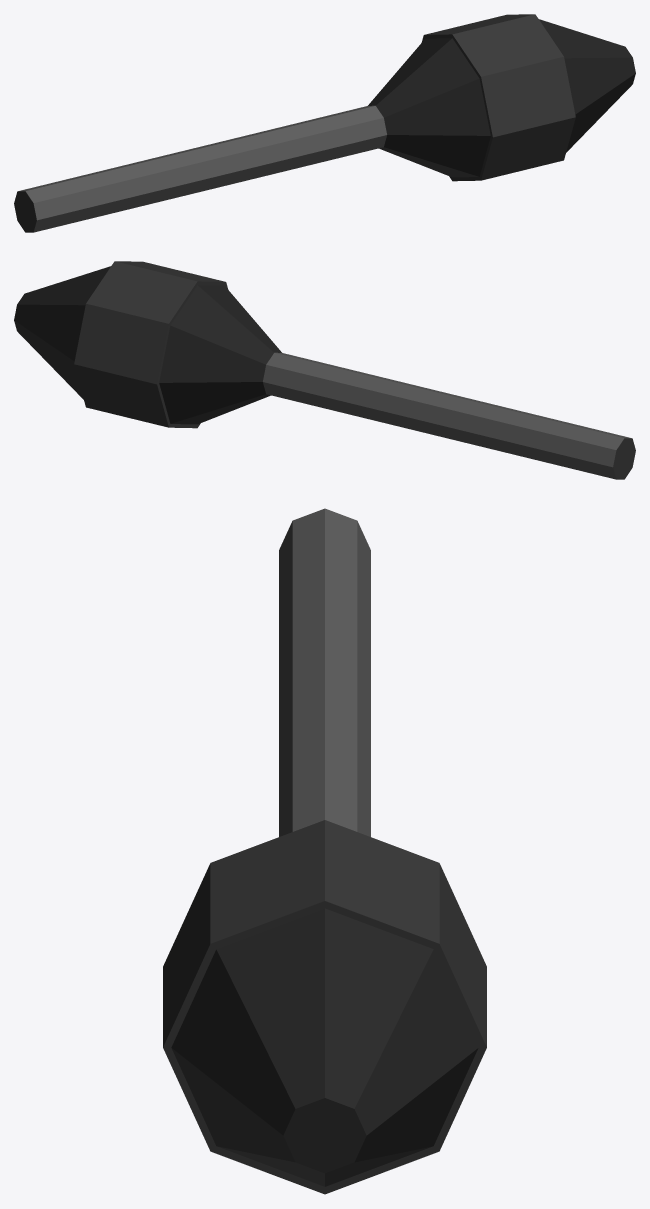
File: Ammo_Rocket_Launcher.FBX
The picture shows the model from 3 angles, top to bottom: view 1: azimuth 30°, elevation 25°; view 2: azimuth 150°, elevation 25°; view 3: azimuth 270°, elevation 25°; orthographic projection. The views are drawn at different scales.
Visible parts, largest first — view 1: Ammo_Rocket_Launcher; view 2: Ammo_Rocket_Launcher; view 3: Ammo_Rocket_Launcher.
Part boxes in pixels (x1,y1,x2,y2): Ammo_Rocket_Launcher: (14, 14, 635, 232); Ammo_Rocket_Launcher: (14, 261, 635, 479); Ammo_Rocket_Launcher: (163, 508, 486, 1194).
Size of the model in its own units: 335 by 78.3 by 78.3.
